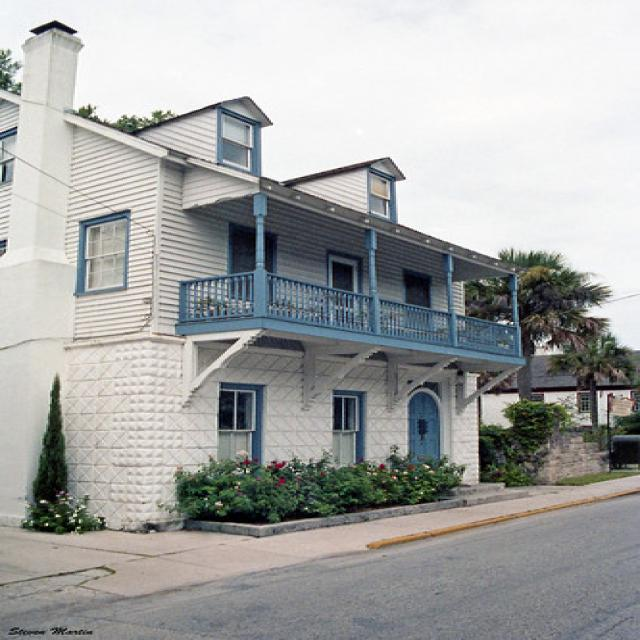Normal_building: (0, 20, 542, 549)
